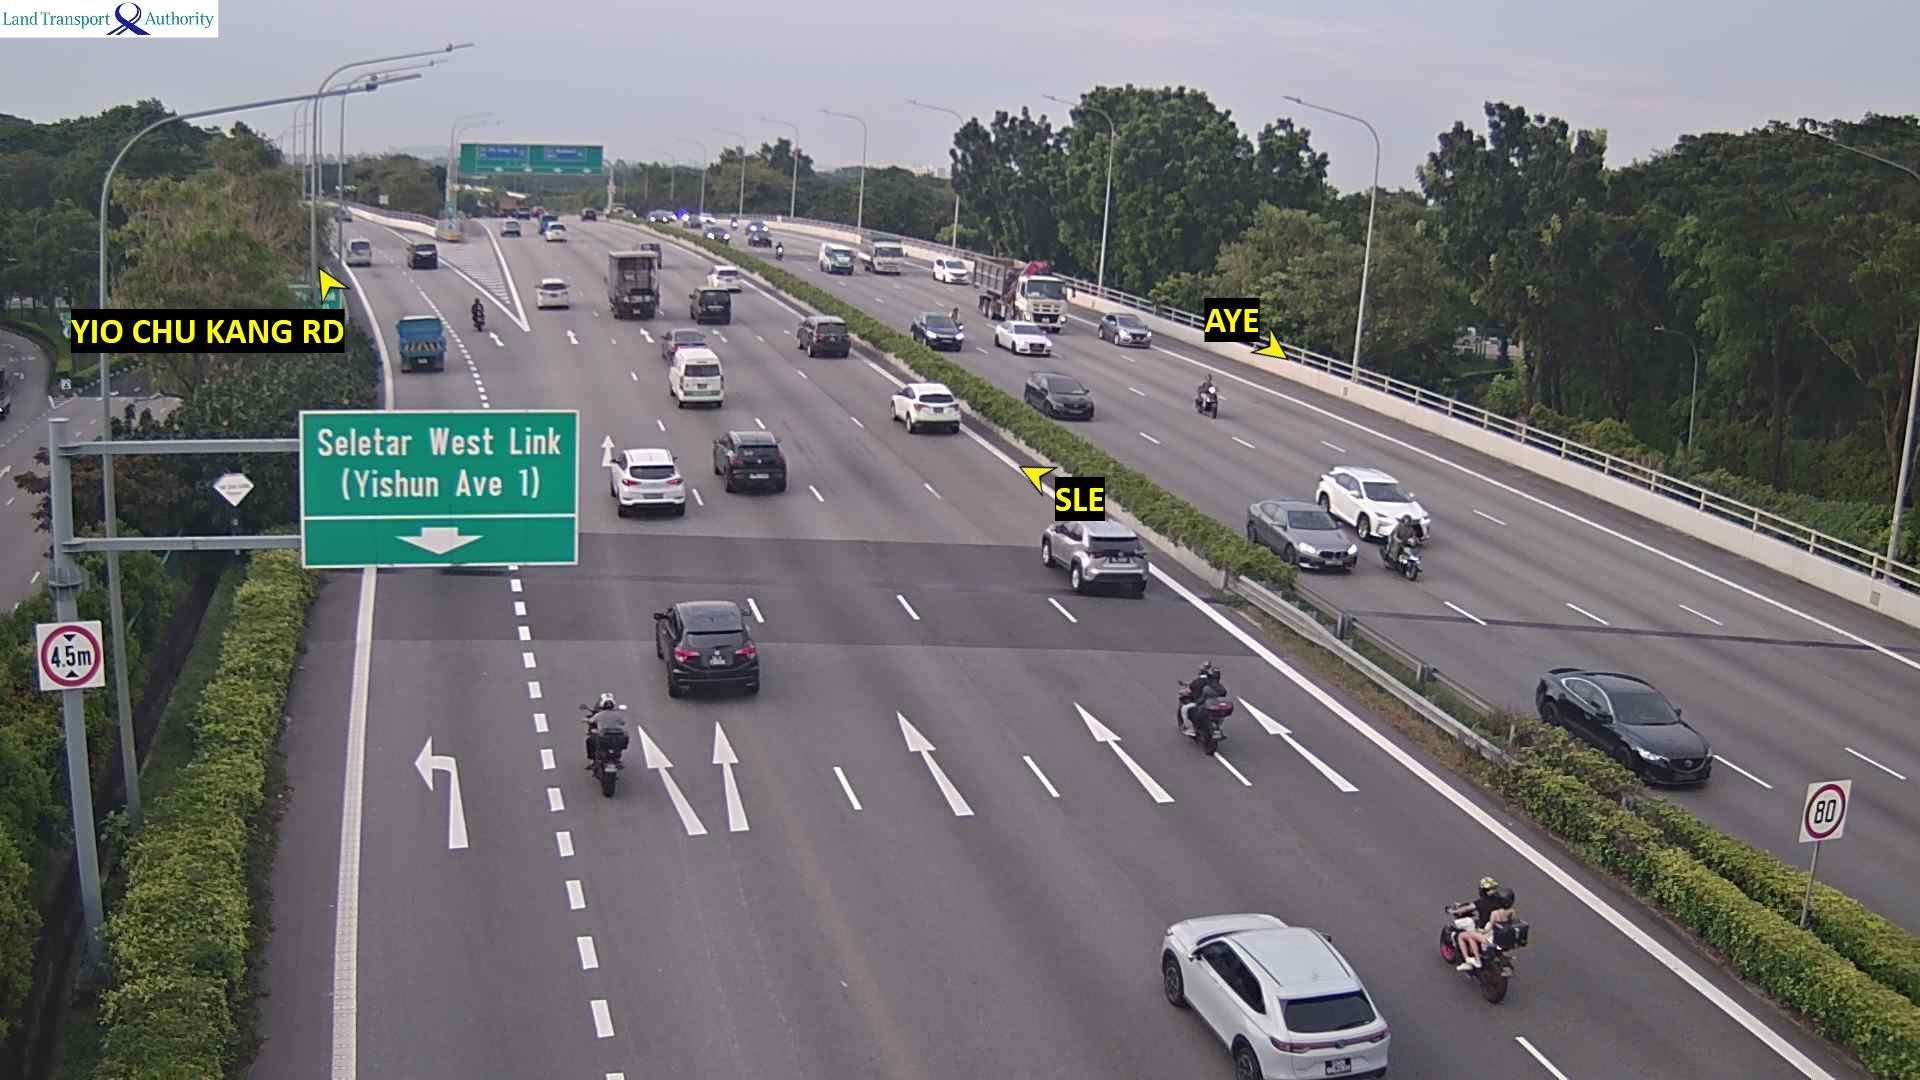incoming: (1600, 695, 1716, 789), (1273, 513, 1364, 572), (1360, 485, 1432, 538), (1018, 274, 1076, 322), (1040, 378, 1096, 421), (1006, 326, 1058, 357), (920, 318, 969, 349), (1112, 318, 1155, 348), (870, 243, 910, 272), (1400, 538, 1425, 579), (825, 247, 860, 274), (939, 258, 972, 286), (1205, 386, 1224, 419), (709, 228, 733, 243), (752, 233, 773, 248)
